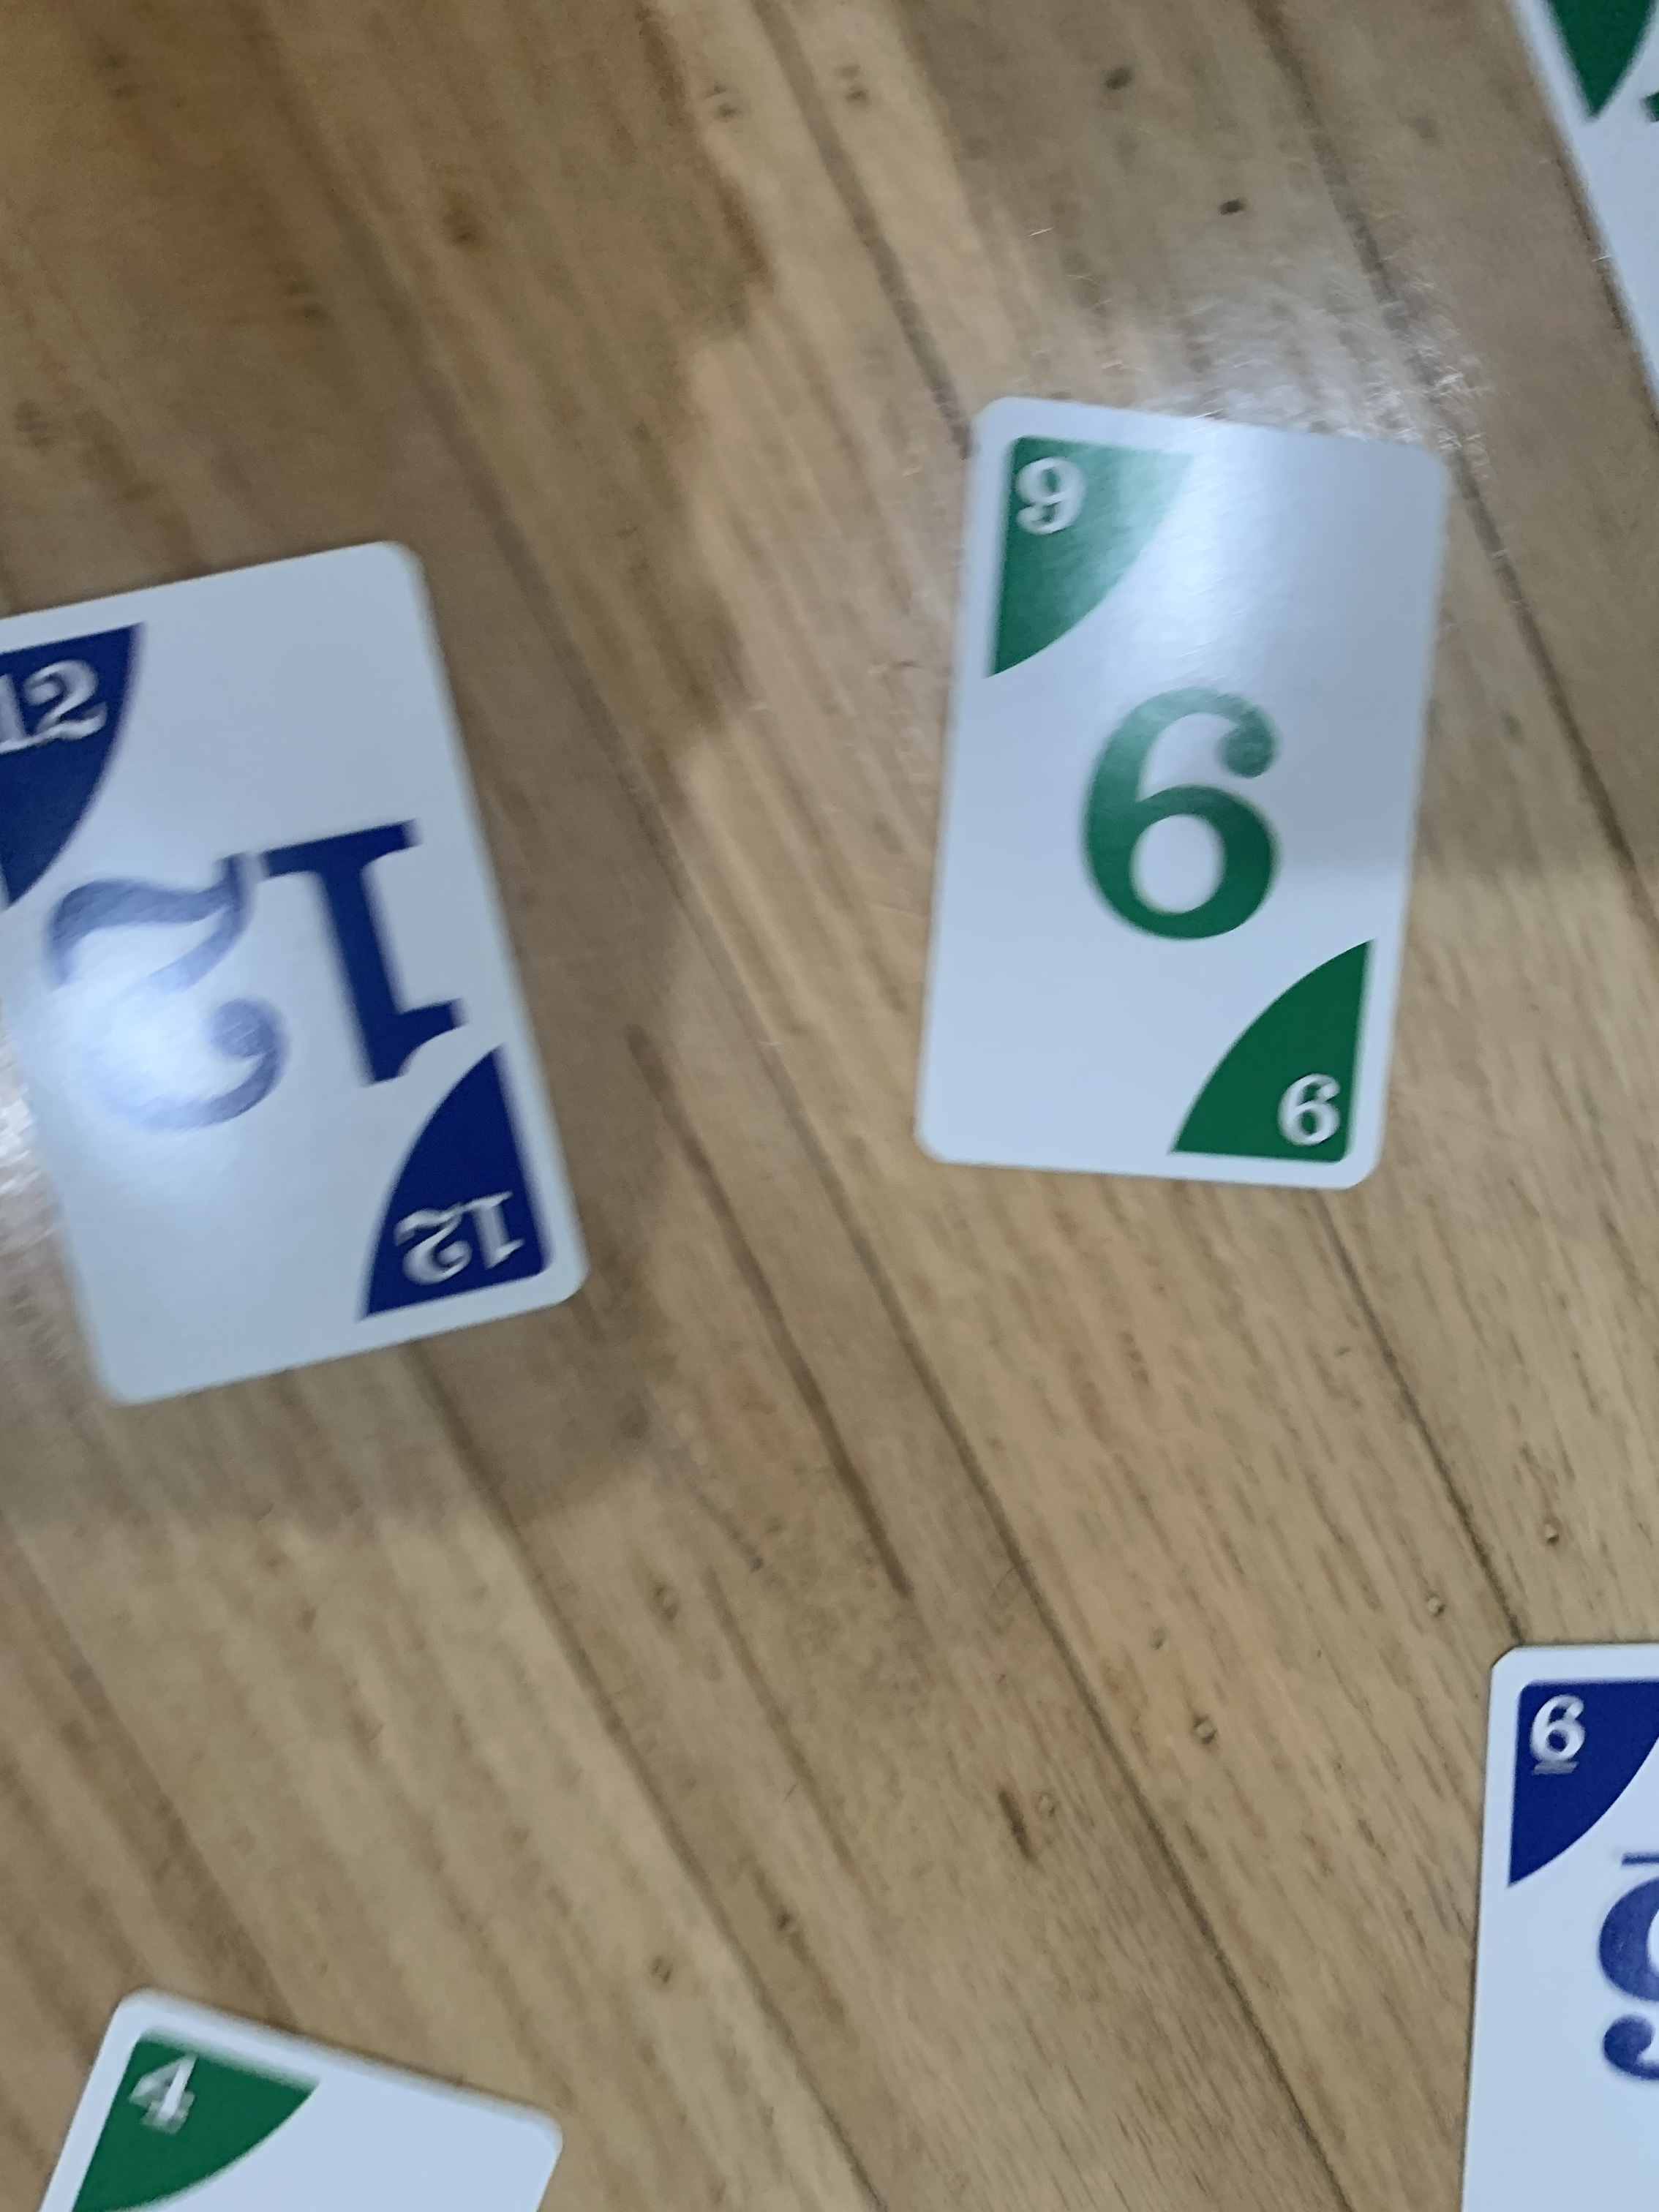six: (885, 383, 1464, 1211)
twelve: (3, 535, 598, 1423)
